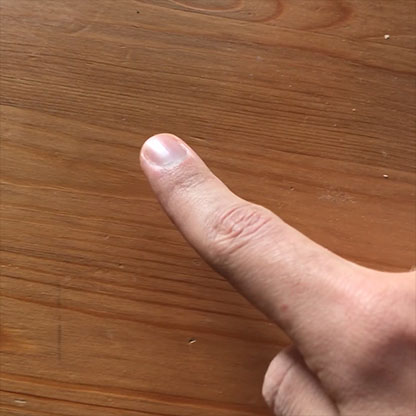fingertip: (126, 127, 204, 176)
